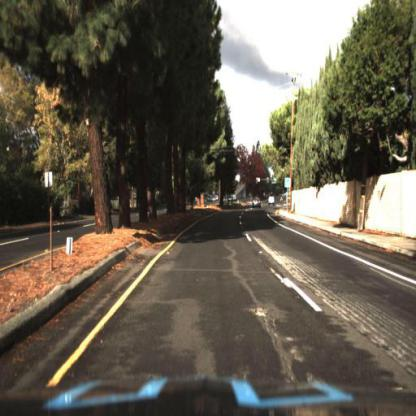car: (250, 196, 266, 212), (266, 192, 278, 211)
